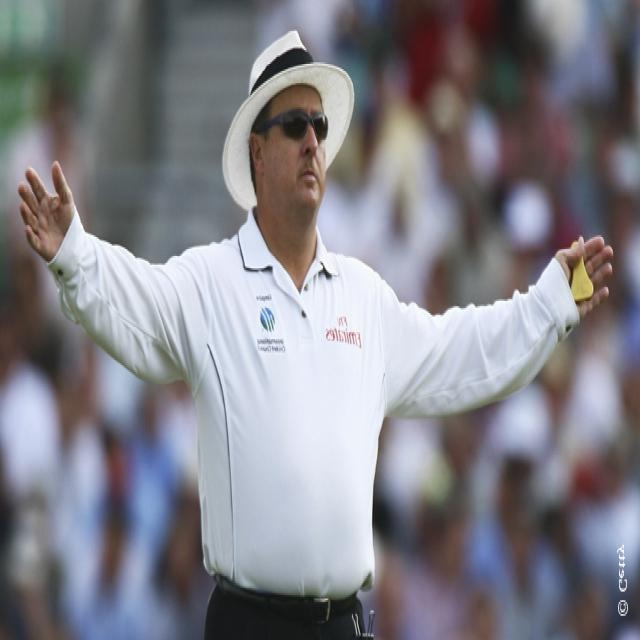Wide: (11, 21, 624, 640)
